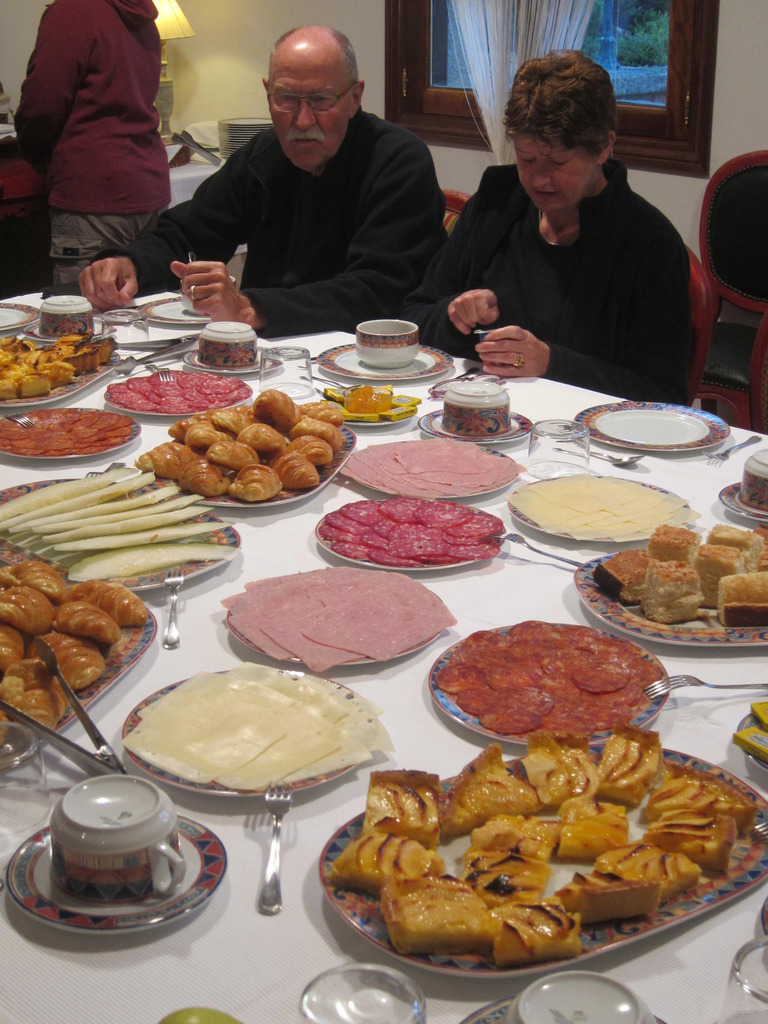Person: (397, 45, 693, 408)
